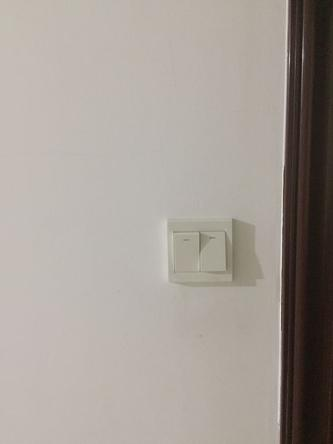switch: (199, 231, 229, 273), (171, 231, 200, 273)
